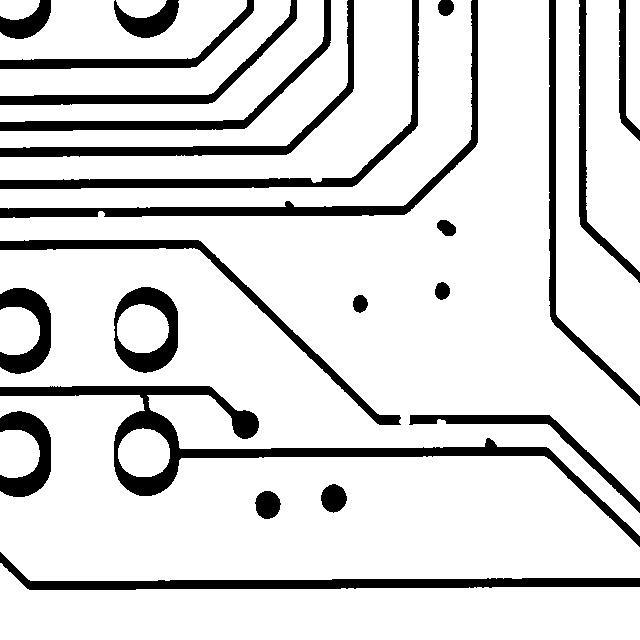copper: (427, 210, 465, 245)
mousebite: (300, 164, 331, 192), (88, 201, 114, 229), (427, 409, 455, 434)
open: (389, 403, 419, 434)
short: (130, 383, 161, 424)
spur: (275, 191, 306, 224), (475, 428, 506, 459)
